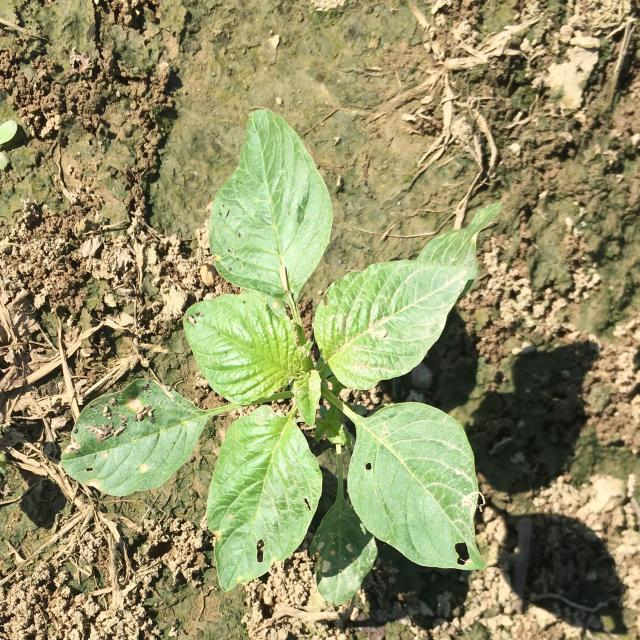PalmerAmaranth: (60, 109, 503, 606)
